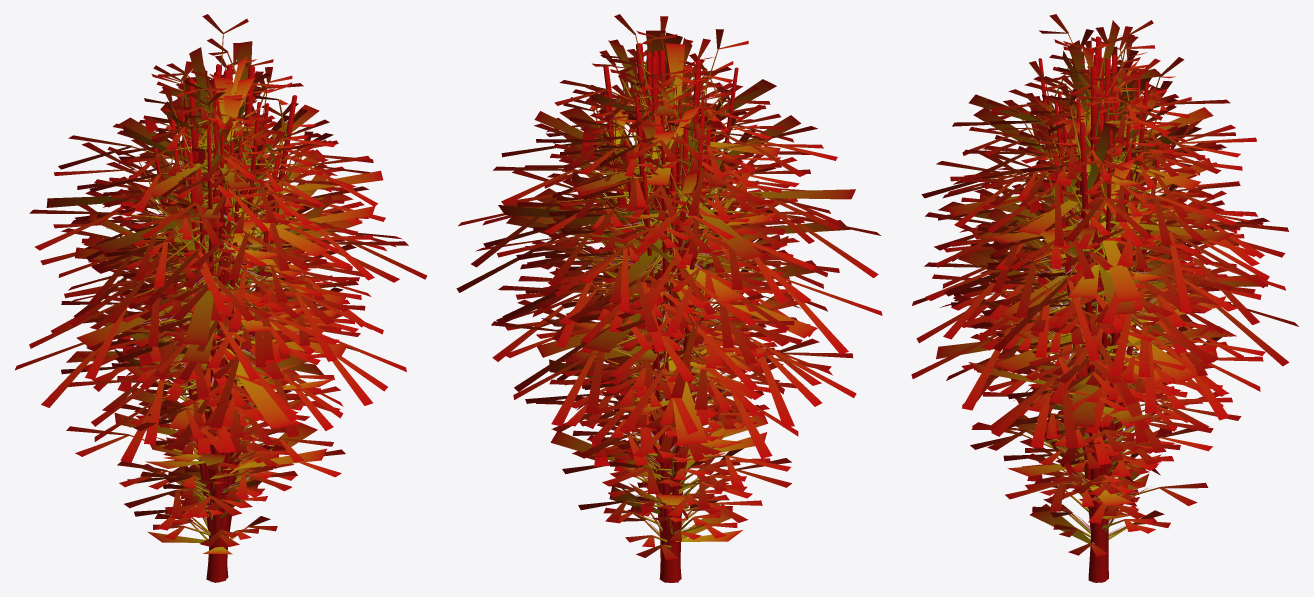
Rendered from willow.glb.
The picture shows the model from 3 angles, left to right: view 1: azimuth 30°, elevation 25°; view 2: azimuth 150°, elevation 25°; view 3: azimuth 270°, elevation 25°; orthographic projection. The views are drawn at different scales.
Visible parts, largest first — view 1: v3, v2, v7, v9, v4, v0, v5, v3_far, v6, v2_far, v7_far, v1 (+8 smaller); view 2: v3, v2, v7, v9, v4, v0, v5, v6, v3_far, v2_far, v1, v7_far (+8 smaller); view 3: v3, v2, v7, v9, v5, v4, v0, v6, v3_far, v2_far, v9_far, v7_far (+8 smaller).
Part boxes in pixels (x1,y1,x2,y2): v3: (15, 101, 427, 462); v2: (29, 55, 408, 582); v7: (53, 80, 360, 546); v9: (54, 83, 373, 349); v4: (78, 59, 340, 538); v0: (92, 14, 339, 533); v5: (116, 38, 365, 582); v3_far: (46, 88, 353, 429); v6: (107, 65, 332, 505); v2_far: (75, 72, 383, 581); v7_far: (89, 77, 334, 577); v1: (121, 43, 308, 504); v3: (456, 77, 882, 463); v2: (483, 49, 840, 582); v7: (491, 29, 852, 559); v9: (502, 70, 810, 352); v4: (543, 39, 831, 547); v0: (536, 14, 803, 534); v5: (525, 34, 793, 582); v6: (546, 51, 785, 520); v3_far: (501, 88, 849, 444); v2_far: (506, 79, 855, 572); v1: (583, 16, 770, 480); v7_far: (541, 59, 794, 581); v3: (911, 72, 1298, 465); v2: (921, 36, 1288, 582); v7: (932, 14, 1265, 556); v9: (925, 66, 1264, 335); v5: (954, 27, 1255, 575); v4: (951, 55, 1236, 536); v0: (953, 20, 1224, 532); v6: (984, 46, 1213, 506); v3_far: (936, 68, 1239, 427); v2_far: (968, 73, 1268, 382); v9_far: (973, 77, 1235, 325); v7_far: (969, 36, 1217, 581).
Size of the model in its own units: 7.96 by 11.39 by 7.09.
